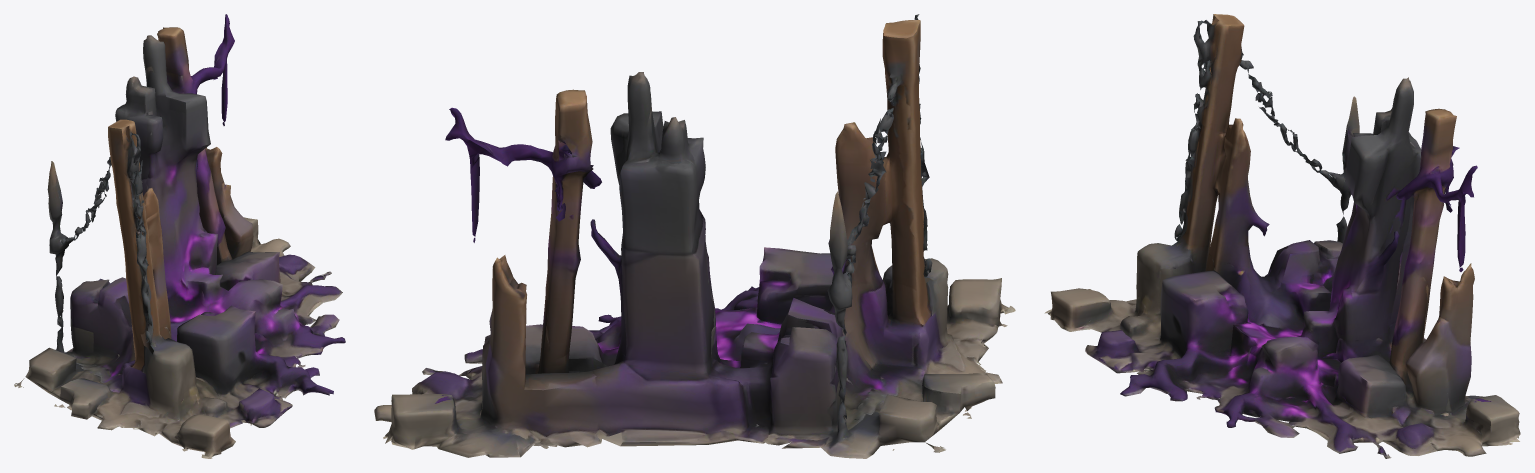
Rendered from SM_Environment_FantasyRuin_01.fbx.
The picture shows the model from 3 angles, left to right: view 1: azimuth 30°, elevation 25°; view 2: azimuth 150°, elevation 25°; view 3: azimuth 270°, elevation 25°; orthographic projection. The views are drawn at different scales.
Parts seen in each view (by area): view 1: SM_Environment_FantasyRuin_01; view 2: SM_Environment_FantasyRuin_01; view 3: SM_Environment_FantasyRuin_01.
Boxes of the visible parts, x1,y1,x2,y2 form: SM_Environment_FantasyRuin_01: (14, 14, 345, 458); SM_Environment_FantasyRuin_01: (374, 14, 1015, 458); SM_Environment_FantasyRuin_01: (1044, 14, 1520, 458).
Size of the model in its own units: 0.8959 by 0.6679 by 0.9776.
1 material, 1 textured.
